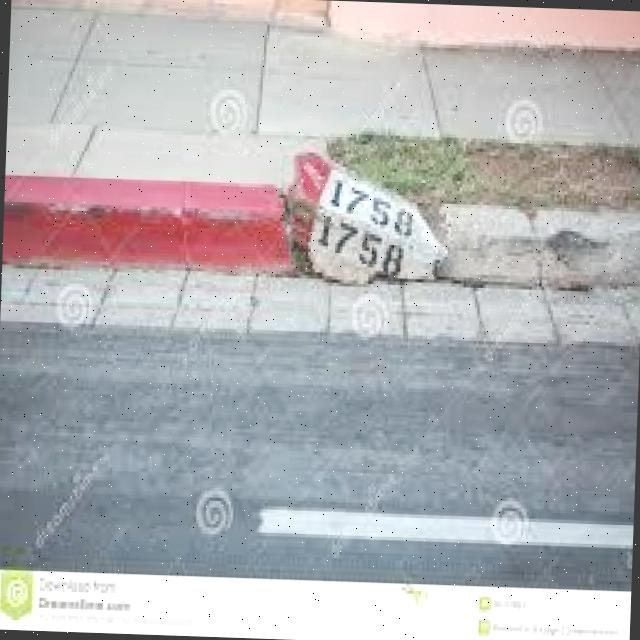curb: (2, 174, 640, 285)
